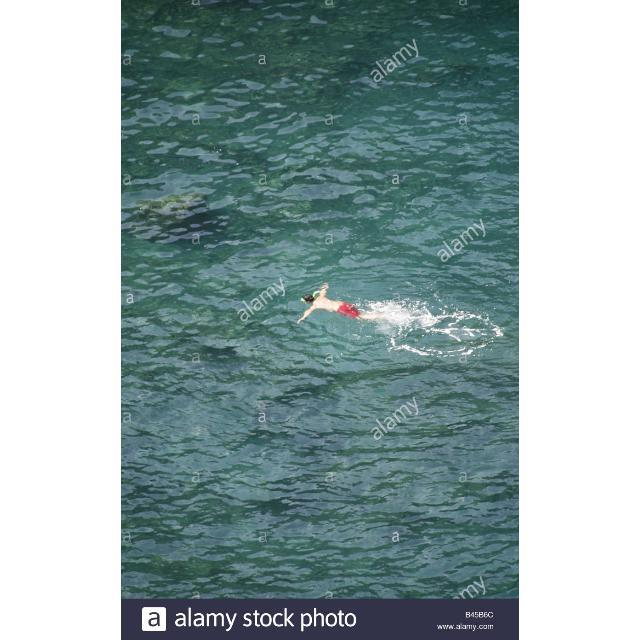human: (298, 283, 362, 334)
